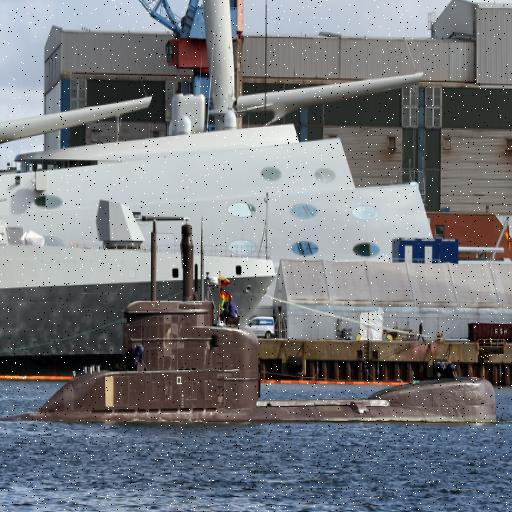submarine: (1, 218, 511, 426)
